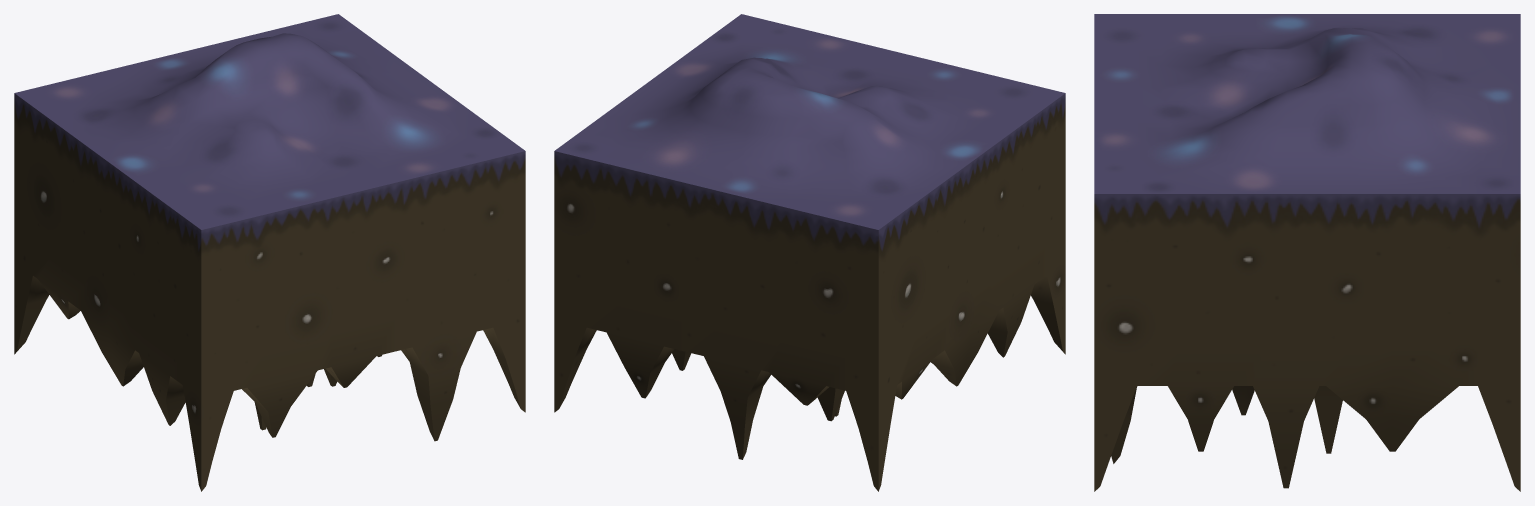
The model's file is Island_Hill_SEV_001.FBX.
3 views of the same model, side by side, from view 1: azimuth 30°, elevation 25°; view 2: azimuth 150°, elevation 25°; view 3: azimuth 270°, elevation 25° (orthographic). The views are drawn at different scales.
Parts seen in each view (by area): view 1: Hill; view 2: Hill; view 3: Hill.
Boxes of the visible parts, bbox=[...] form: Hill: bbox=[14, 14, 525, 491]; Hill: bbox=[554, 14, 1065, 491]; Hill: bbox=[1094, 14, 1520, 491].
Size of the model in its own units: 10 by 10.33 by 10.
